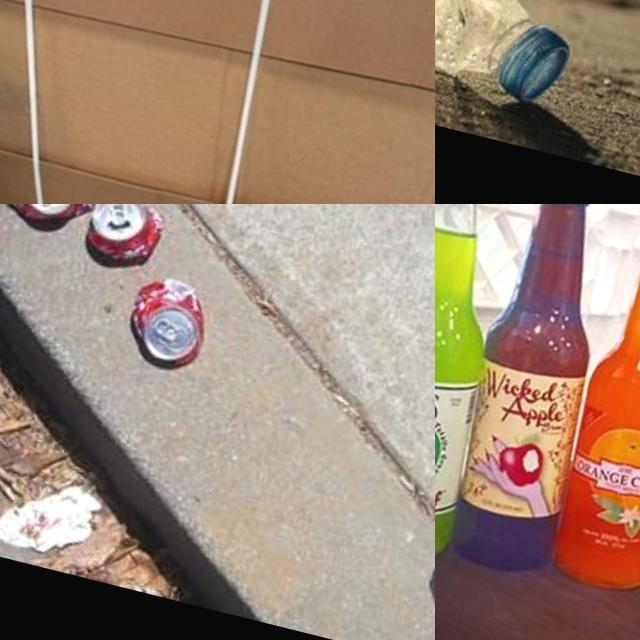aba de lata: (152, 318, 181, 344), (105, 204, 130, 225)
garrafa de vidro: (435, 204, 640, 583), (539, 204, 640, 601), (435, 204, 542, 576)
garrafa plástica: (435, 0, 565, 106)
lata: (118, 270, 216, 374), (82, 204, 169, 269), (0, 204, 103, 235)
papelão: (0, 0, 435, 204), (0, 0, 435, 147), (0, 103, 435, 204)
tampa plástica: (493, 18, 573, 111)
